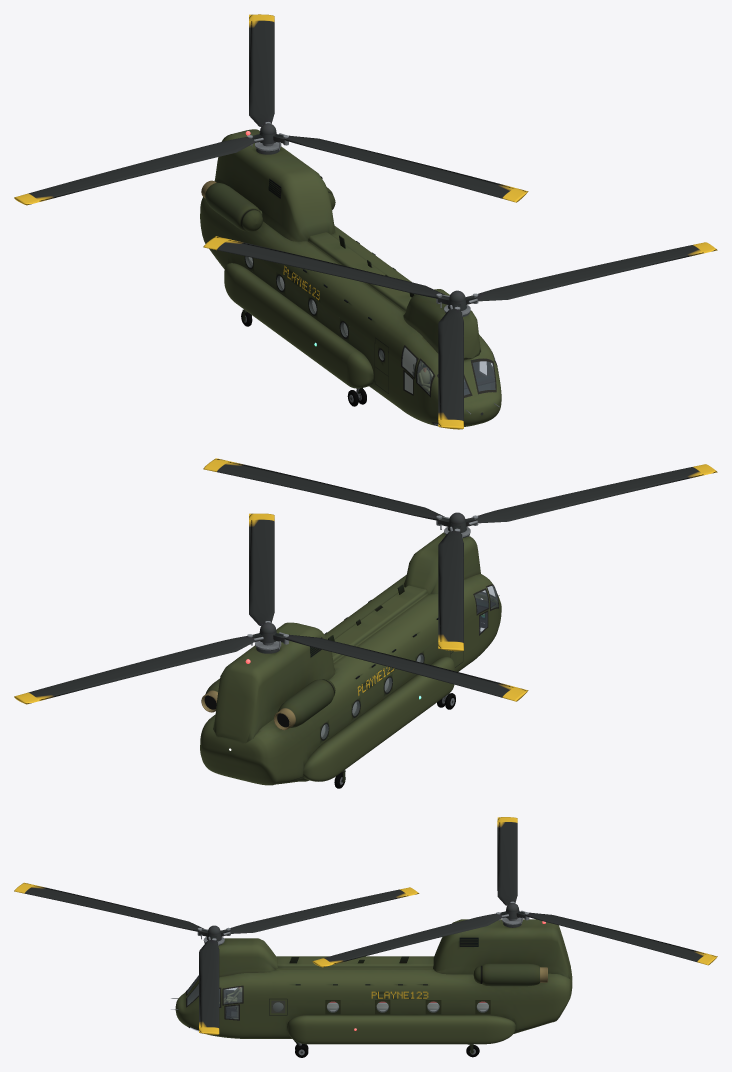
3 renders of one model, top to bottom at view 1: azimuth 30°, elevation 25°; view 2: azimuth 150°, elevation 25°; view 3: azimuth 270°, elevation 25°, orthographic. The views are drawn at different scales.
Visible parts, largest first — view 1: body, rotorF, rotorR, canopy; view 2: body, rotorF, rotorR, canopy; view 3: body, rotorF, rotorR, canopy.
Boxes of the visible parts, x1=… form: body: x1=200, y1=129, x2=501, y2=426; rotorF: x1=203, y1=236, x2=717, y2=429; rotorR: x1=14, y1=14, x2=528, y2=205; canopy: x1=245, y1=256, x2=495, y2=425; body: x1=200, y1=527, x2=501, y2=788; rotorF: x1=203, y1=458, x2=717, y2=651; rotorR: x1=14, y1=513, x2=528, y2=704; canopy: x1=321, y1=586, x2=498, y2=738; body: x1=171, y1=917, x2=572, y2=1057; rotorF: x1=14, y1=882, x2=419, y2=1034; rotorR: x1=312, y1=817, x2=717, y2=967; canopy: x1=187, y1=975, x2=488, y2=1031.
Size of the model in its own units: 18.28 by 5.99 by 28.17.
